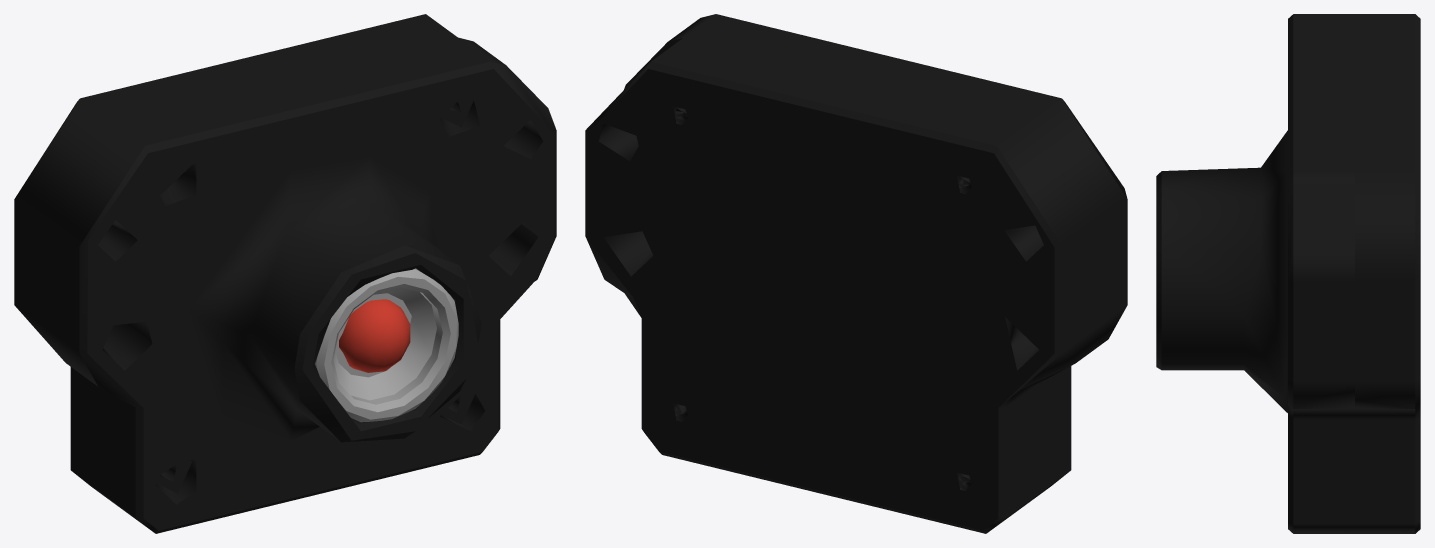
The model's file is camera.glb.
3 renders of one model, left to right at view 1: azimuth 30°, elevation 25°; view 2: azimuth 150°, elevation 25°; view 3: azimuth 270°, elevation 25°, orthographic. The views are drawn at different scales.
Visible parts, largest first — view 1: SR-CAMERA-OV9281-USBC-TOPCASE-01:1, SR-CAMERA-OV9281-USBC-BOTTOMCASE-01:1, Camera Lens:1, Glass Sphere:1; view 2: SR-CAMERA-OV9281-USBC-BOTTOMCASE-01:1, SR-CAMERA-OV9281-USBC-TOPCASE-01:1; view 3: SR-CAMERA-OV9281-USBC-TOPCASE-01:1, SR-CAMERA-OV9281-USBC-BOTTOMCASE-01:1.
Boxes of the visible parts, x1,y1,x2,y2 form: SR-CAMERA-OV9281-USBC-TOPCASE-01:1: (46,37,556,533); SR-CAMERA-OV9281-USBC-BOTTOMCASE-01:1: (14,14,457,508); Camera Lens:1: (315,268,458,422); Glass Sphere:1: (339,299,410,372); SR-CAMERA-OV9281-USBC-BOTTOMCASE-01:1: (585,38,1094,533); SR-CAMERA-OV9281-USBC-TOPCASE-01:1: (624,14,1127,508); SR-CAMERA-OV9281-USBC-TOPCASE-01:1: (1156,14,1354,533); SR-CAMERA-OV9281-USBC-BOTTOMCASE-01:1: (1355,14,1420,533).
Bounding box in the file's own units: 0.0471 × 0.0368 × 0.0241.
